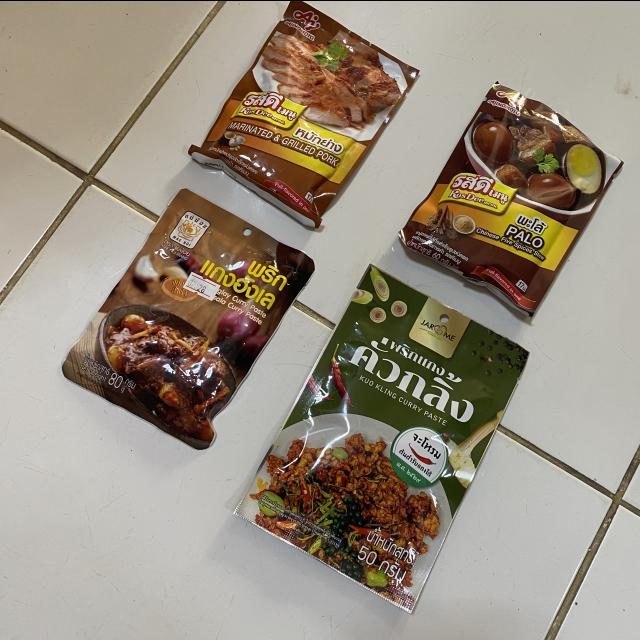plastik: (235, 265, 527, 612), (63, 188, 313, 449), (189, 0, 418, 227), (400, 83, 622, 315)
